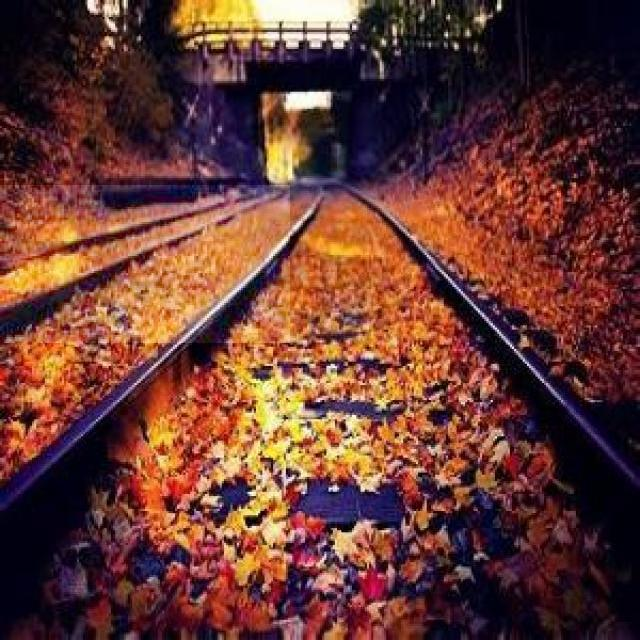rail: (1, 175, 640, 639), (1, 186, 291, 344)
